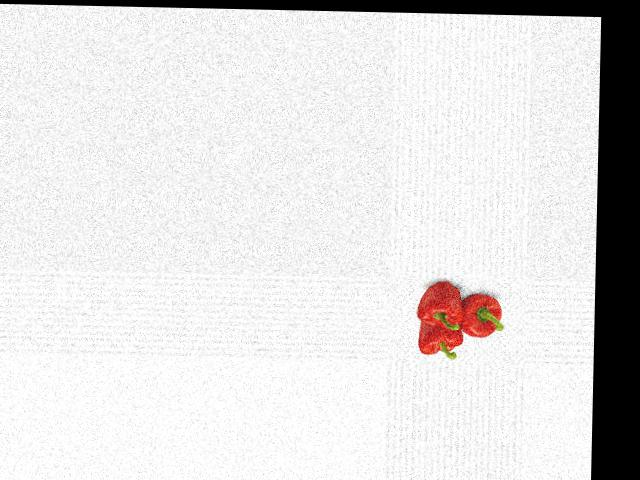bell_pepper: (455, 289, 507, 343)
